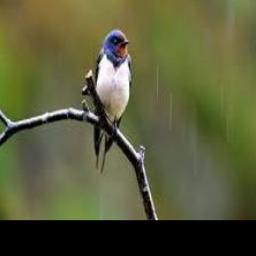Swallow: (93, 29, 133, 174)
